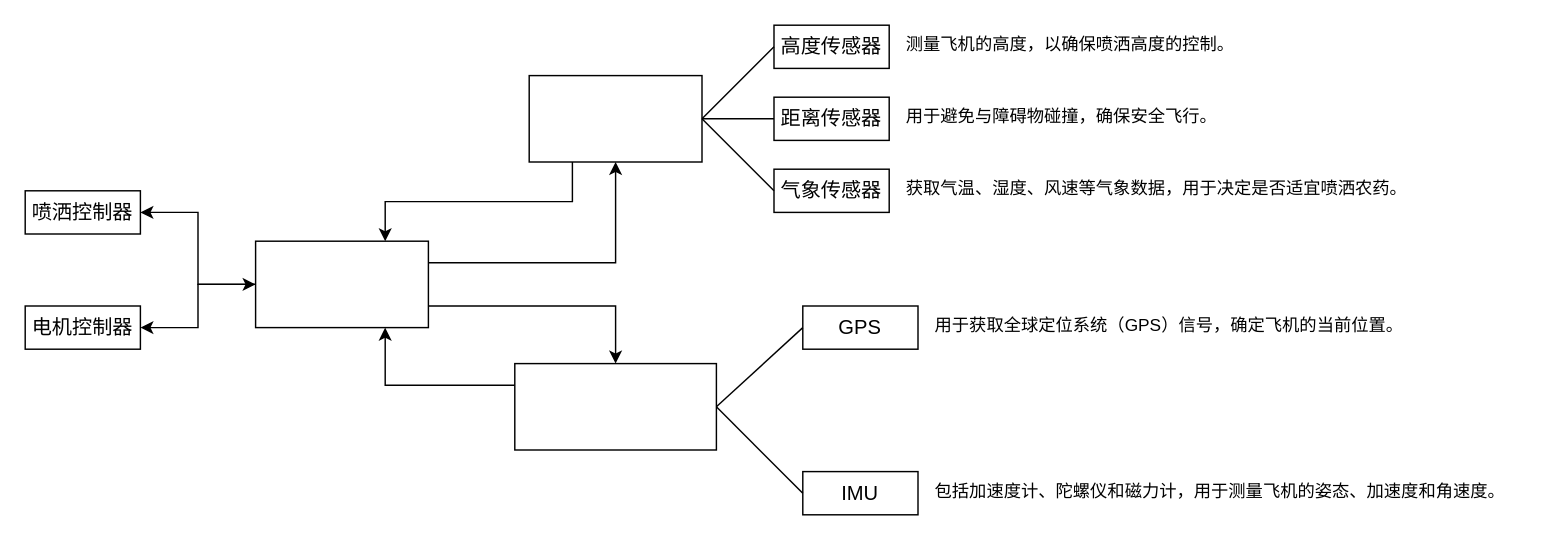
The diagram is 1562 pixels wide and 540 high, and some of its shapes have lost their labels. Here are the shapes that lost their labels. From the top down, the centre of each, then its label:
At point (615, 118): "传感器系统".
At point (341, 284): "控制中心".
At point (614, 406): "定位与导航系统".
